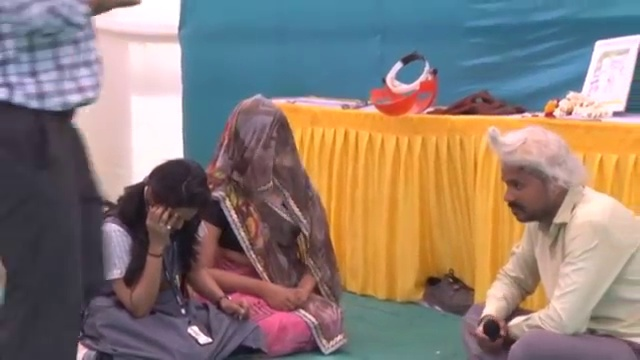helmet_off: (493, 123, 576, 229), (222, 98, 309, 193), (137, 161, 210, 224)
person: (0, 0, 143, 360), (456, 122, 640, 359), (190, 97, 342, 353), (78, 161, 267, 356)
